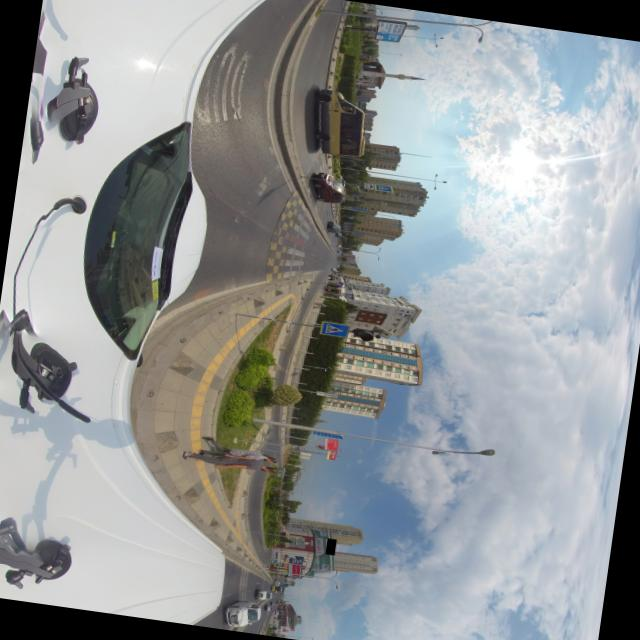SignStore: (326, 538, 334, 555)
